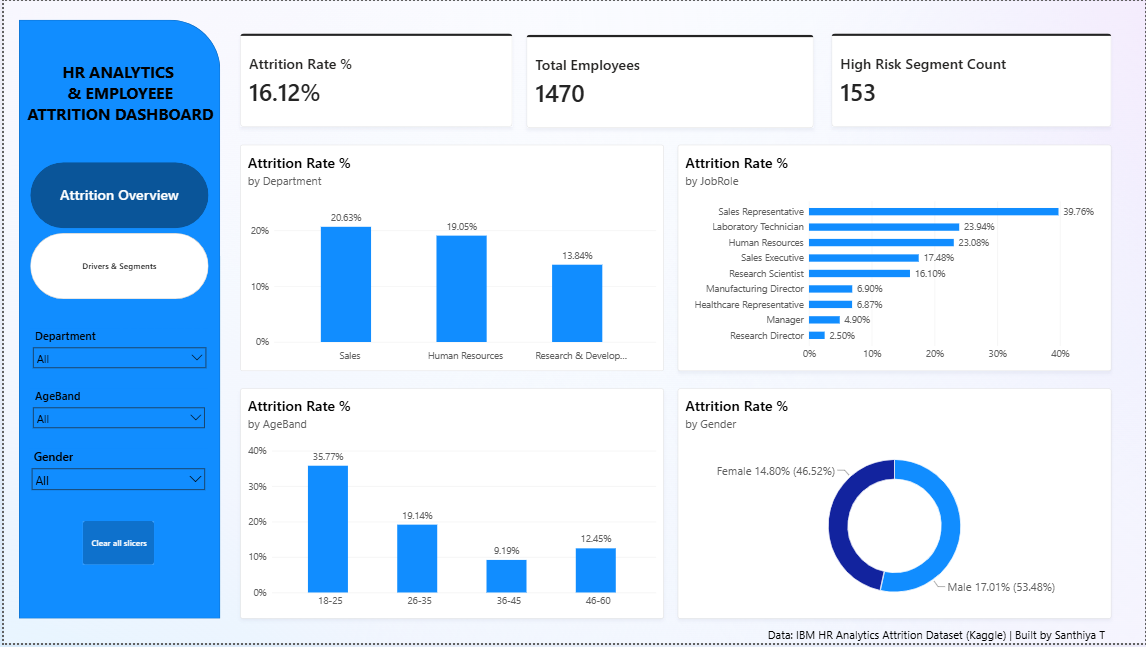

The page's visual inventory and layout, read from the dashboard file:
{"tool":"powerbi","page":{"name":"Attrition Overview","canvas":[1920,1080],"ordinal":0},"visuals":[{"type":"shape","box":[25.2,31.6,338.7,1007.5],"z":0},{"type":"cardVisual","fields":{"Data":["HR.Attrition Rate %"]},"box":[397.5,54.7,458.5,157.8],"z":1000},{"type":"cardVisual","fields":{"Data":["HR.High Risk Segment Count"]},"box":[1392.5,54.7,471.2,157.8],"z":3000},{"type":"clusteredColumnChart","fields":{"Y":["HR.Attrition Rate %"],"Category":["HR.Department"]},"box":[397.5,241.9,713.1,380.7],"z":4000},{"type":"clusteredBarChart","fields":{"Y":["HR.Attrition Rate %"],"Category":["HR.JobRole"]},"box":[1133.7,241.9,729.9,380.7],"z":5000},{"type":"donutChart","fields":{"Y":["HR.Attrition Rate %"],"Category":["HR.Gender"]},"box":[1133.7,652.1,729.9,387],"z":6000},{"type":"clusteredColumnChart","fields":{"Y":["HR.Attrition Rate %"],"Category":["HR.AgeBand"]},"box":[397.5,652.1,713.1,387],"z":7000},{"type":"pageNavigator","box":[44.2,271.3,300.8,231.4],"z":8000},{"type":"textbox","box":[1285.2,1053.8,605.8,25.2],"z":9000},{"type":"slicer","fields":{"Values":["HR.Department"]},"box":[44.2,551.1,300.8,82],"z":10000},{"type":"slicer","fields":{"Values":["HR.AgeBand"]},"box":[44.2,652.1,298.7,86.2],"z":11000},{"type":"slicer","fields":{"Values":["HR.Gender"]},"box":[42.1,753,300.8,77.8],"z":12000},{"type":"actionButton","title":"Reset","box":[132.5,875,119.9,73.6],"z":13000},{"type":"textbox","box":[35.8,101,319.7,140.9],"z":14000},{"type":"cardVisual","fields":{"Data":["HR.Total Employees"]},"box":[879.2,56.8,483.8,157.8],"z":14001}]}

Visuals, with their boxes in screenshot pixels (x1, y1, x2, y2), scaled from the page's 1920x1080 canvas onto the 1146x647 screenshot:
shape: region(15, 19, 217, 622)
cardVisual - HR.Attrition Rate %: region(237, 33, 511, 127)
cardVisual - HR.High Risk Segment Count: region(831, 33, 1112, 127)
clusteredColumnChart - HR.Attrition Rate % x HR.Department: region(237, 145, 663, 373)
clusteredBarChart - HR.Attrition Rate % x HR.JobRole: region(677, 145, 1112, 373)
donutChart - HR.Attrition Rate % x HR.Gender: region(677, 391, 1112, 622)
clusteredColumnChart - HR.Attrition Rate % x HR.AgeBand: region(237, 391, 663, 622)
pageNavigator: region(26, 163, 206, 301)
textbox: region(767, 631, 1129, 646)
slicer - HR.Department: region(26, 330, 206, 379)
slicer - HR.AgeBand: region(26, 391, 205, 442)
slicer - HR.Gender: region(25, 451, 205, 498)
"Reset" actionButton: region(79, 524, 151, 568)
textbox: region(21, 61, 212, 145)
cardVisual - HR.Total Employees: region(525, 34, 814, 129)
